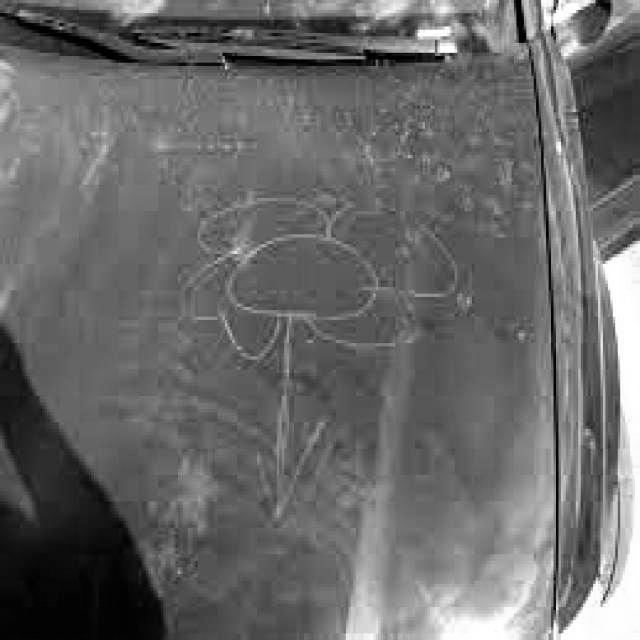bonnet-dent: (0, 40, 588, 637)
